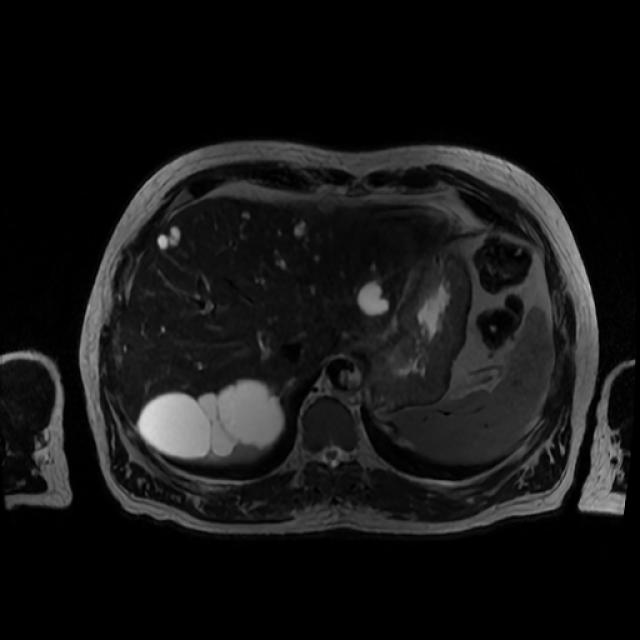sag: (136, 380, 285, 458)
